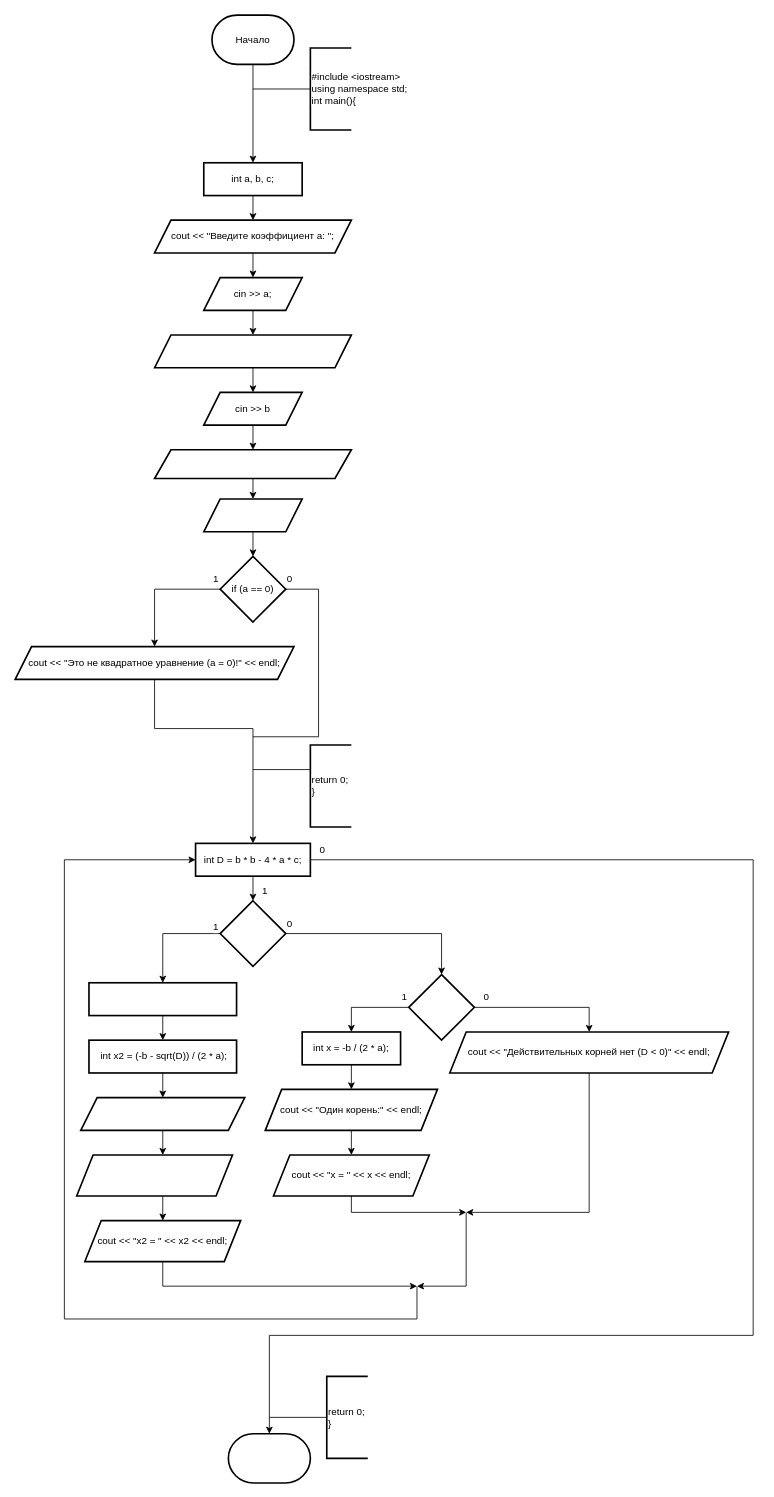
The diagram is 774 pixels wide and 1497 high, and some of its shapes have lost their labels. Each missing label, with the centre of its shape:
cin >> c;: point 253,515
cout << "x1 = " << x1 << endl;: point 154,1175
cout << "Введите коэффициент b: ";: point 252,351
cout << "Введите коэффициент c: ";: point 252,464
cout << "Два корня:" << endl;: point 162,1113
if (D == 0): point 441,1007
if (D > 0): point 252,933
int x1 = (-b + sqrt(D)) / (2 * a);: point 162,999
Конец: point 269,1458
